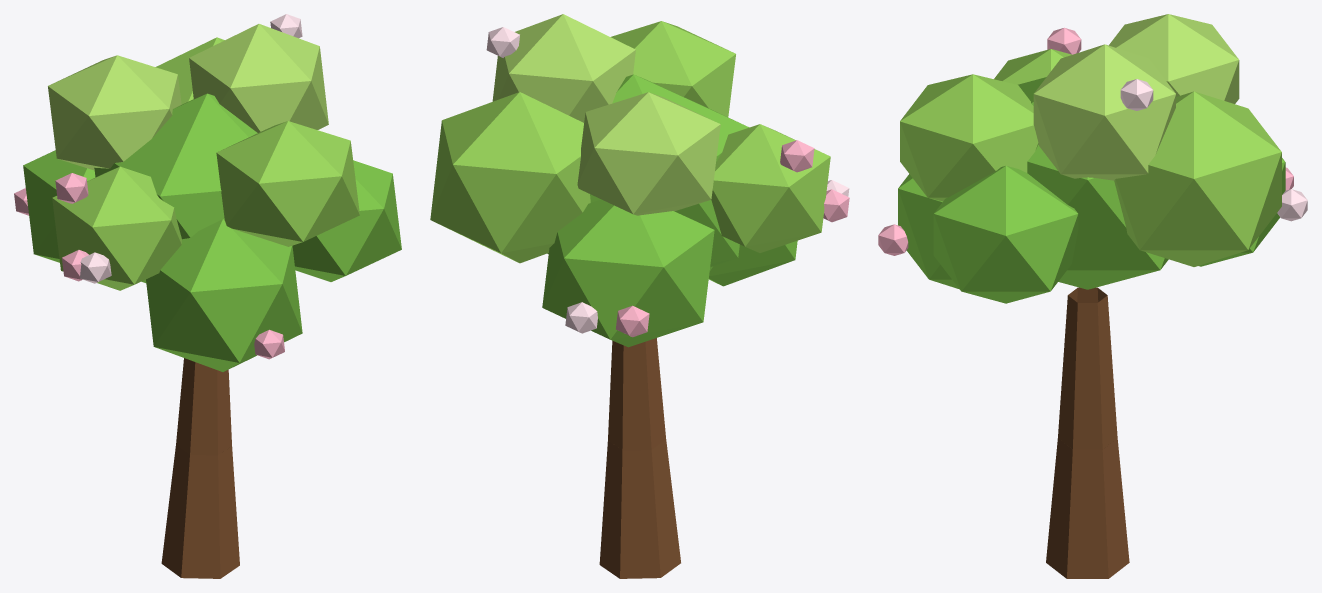
Rendered from tree-spring-lo.glb.
3 views of the same model, side by side, from view 1: azimuth 30°, elevation 25°; view 2: azimuth 150°, elevation 25°; view 3: azimuth 270°, elevation 25° (orthographic). The views are drawn at different scales.
Visible parts, largest first — view 1: SpringLo_Crown, SpringLo_Trunk; view 2: SpringLo_Crown, SpringLo_Trunk; view 3: SpringLo_Crown, SpringLo_Trunk.
Boxes of the visible parts, bbox=[...] form: SpringLo_Crown: bbox=[14, 14, 401, 371]; SpringLo_Trunk: bbox=[161, 358, 239, 578]; SpringLo_Crown: bbox=[430, 14, 849, 347]; SpringLo_Trunk: bbox=[599, 338, 680, 578]; SpringLo_Crown: bbox=[878, 14, 1307, 303]; SpringLo_Trunk: bbox=[1046, 287, 1129, 578].
Size of the model in its own units: 1.99 by 3.07 by 2.16.
